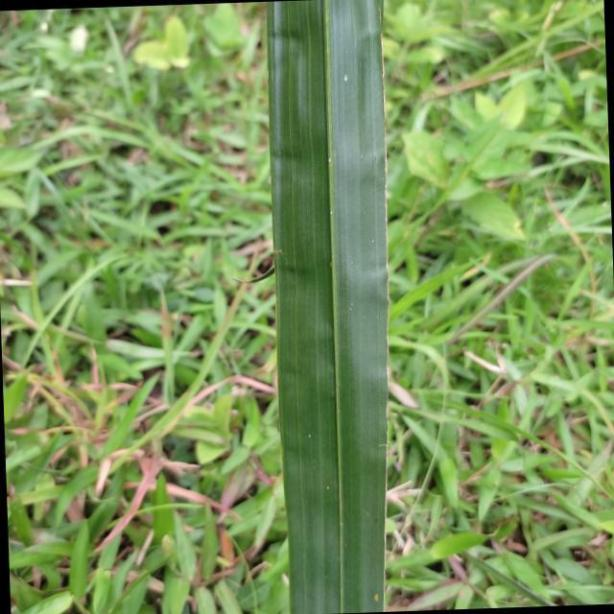Boron: (262, 0, 392, 614)
